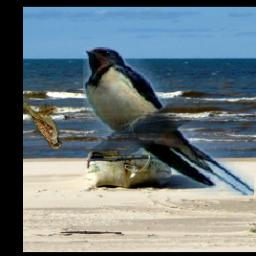Sparrow: (23, 101, 62, 149)
Swallow: (84, 48, 255, 197)
